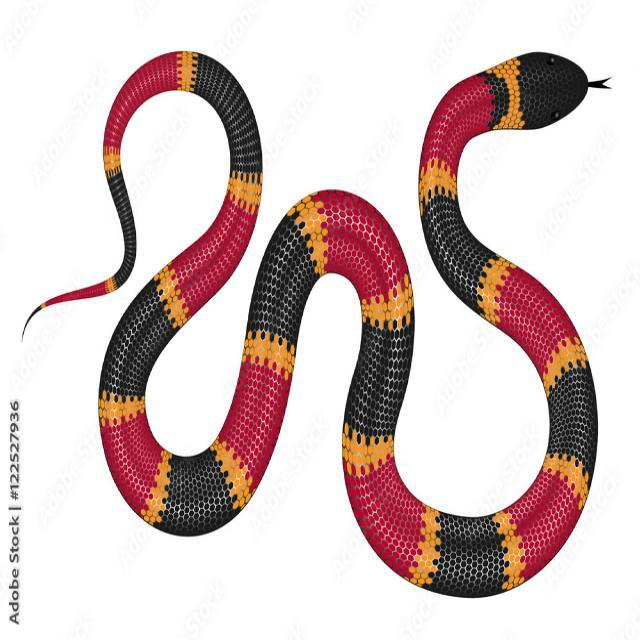Snake: (34, 13, 618, 620)
